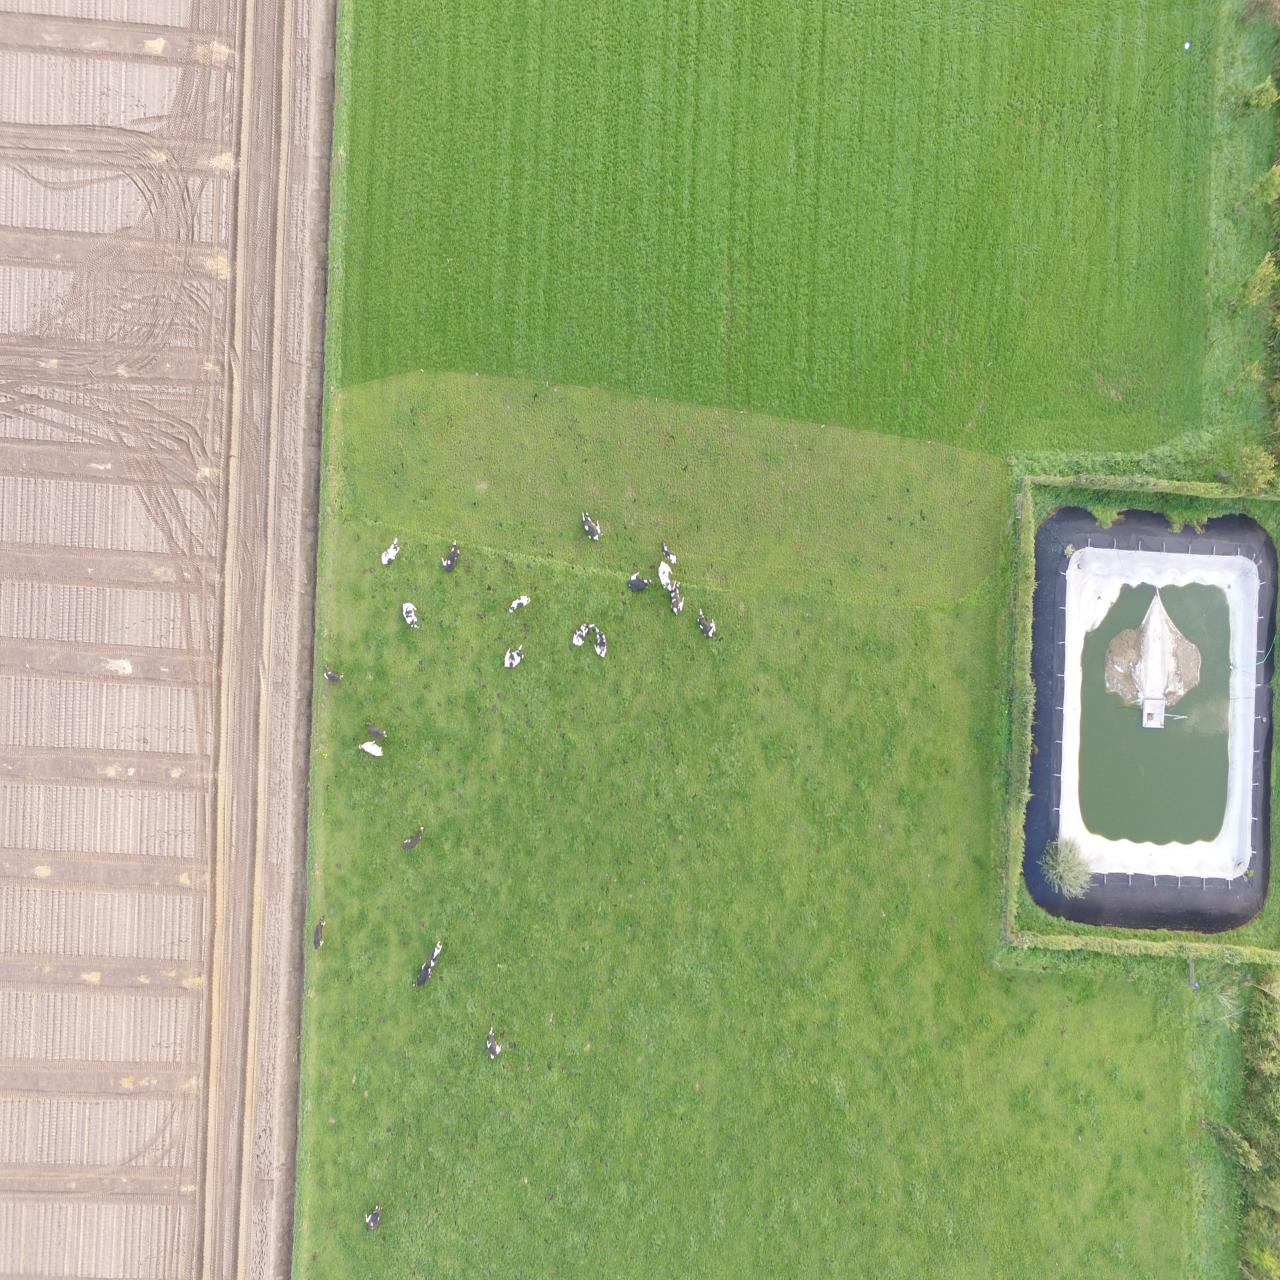cow: (579, 511, 601, 544), (501, 641, 526, 668), (572, 618, 594, 648), (485, 1022, 503, 1060), (441, 538, 459, 572), (697, 606, 716, 639), (380, 536, 399, 565), (401, 825, 423, 850), (312, 912, 326, 951), (363, 721, 390, 741), (365, 1203, 383, 1231), (626, 572, 653, 591), (414, 961, 431, 989), (401, 602, 420, 628), (670, 581, 685, 615), (358, 740, 384, 756), (659, 560, 673, 591), (322, 662, 343, 682), (594, 625, 606, 658), (661, 542, 678, 563), (509, 595, 530, 612), (430, 938, 442, 966)
